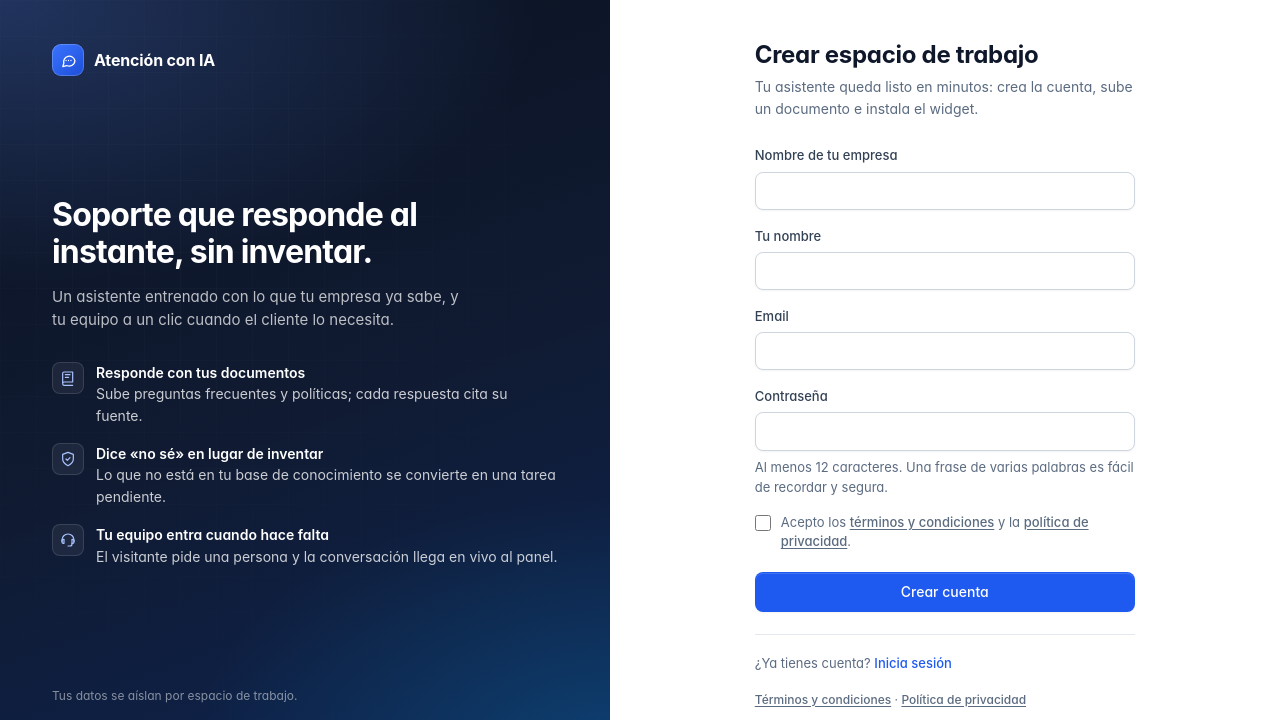
Test: Terms of service › are accepted on signing up, with both legal pages a click away
In the field labelled "Nombre de tu empresa": x=945, y=191 [755,172,1135,210], type "Mi Tienda"
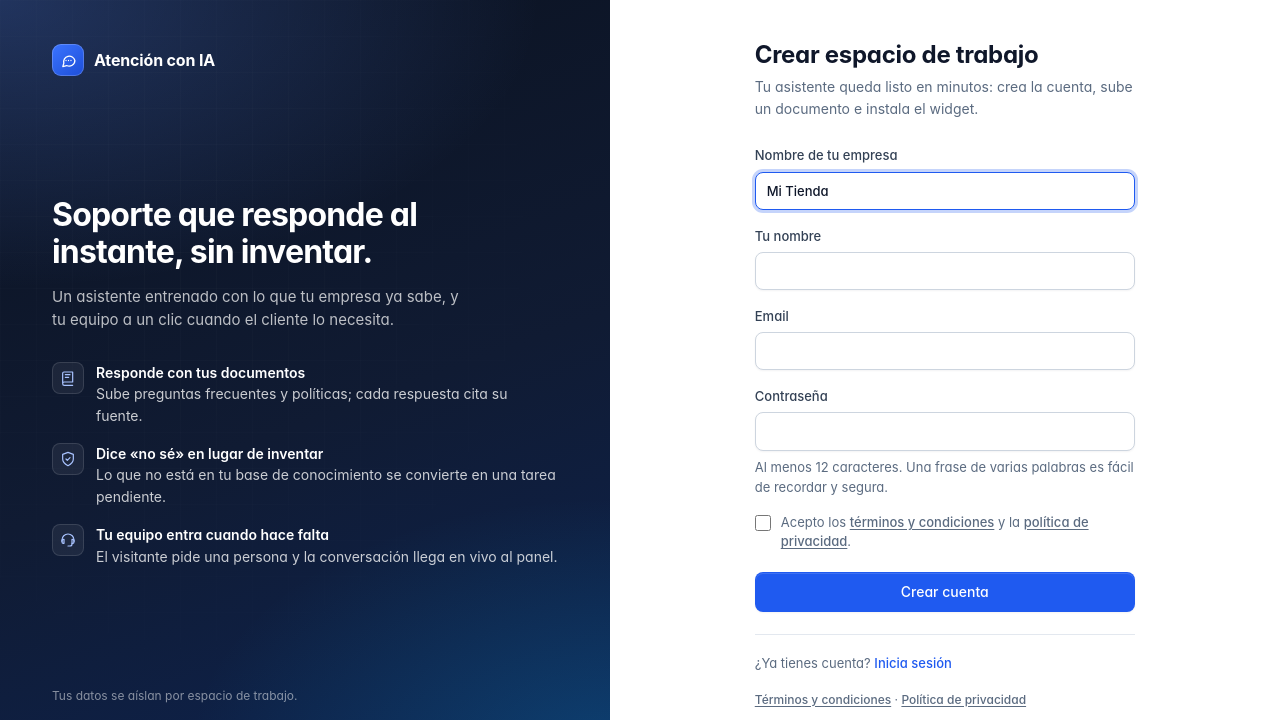
In the field labelled "Tu nombre": x=945, y=271 [755,252,1135,290], type "Ana"
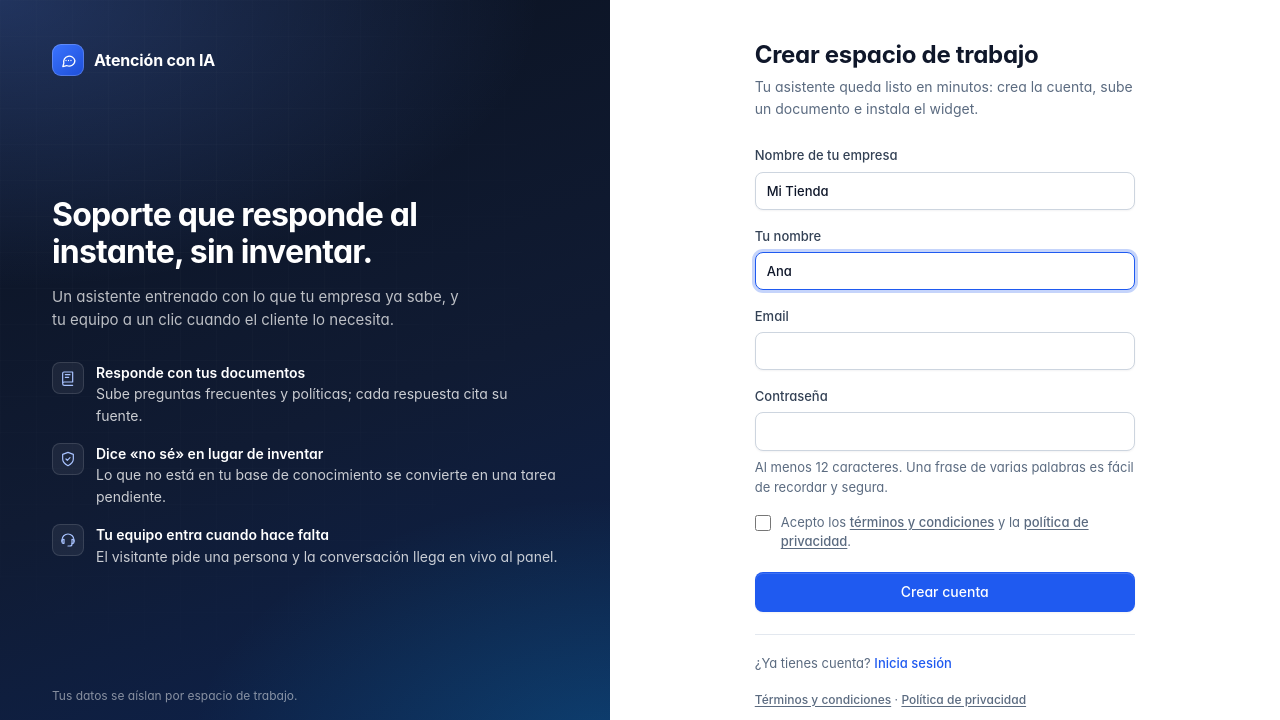
In the field labelled "Email": x=945, y=351 [755,332,1135,370], type "ana@mitienda.com"
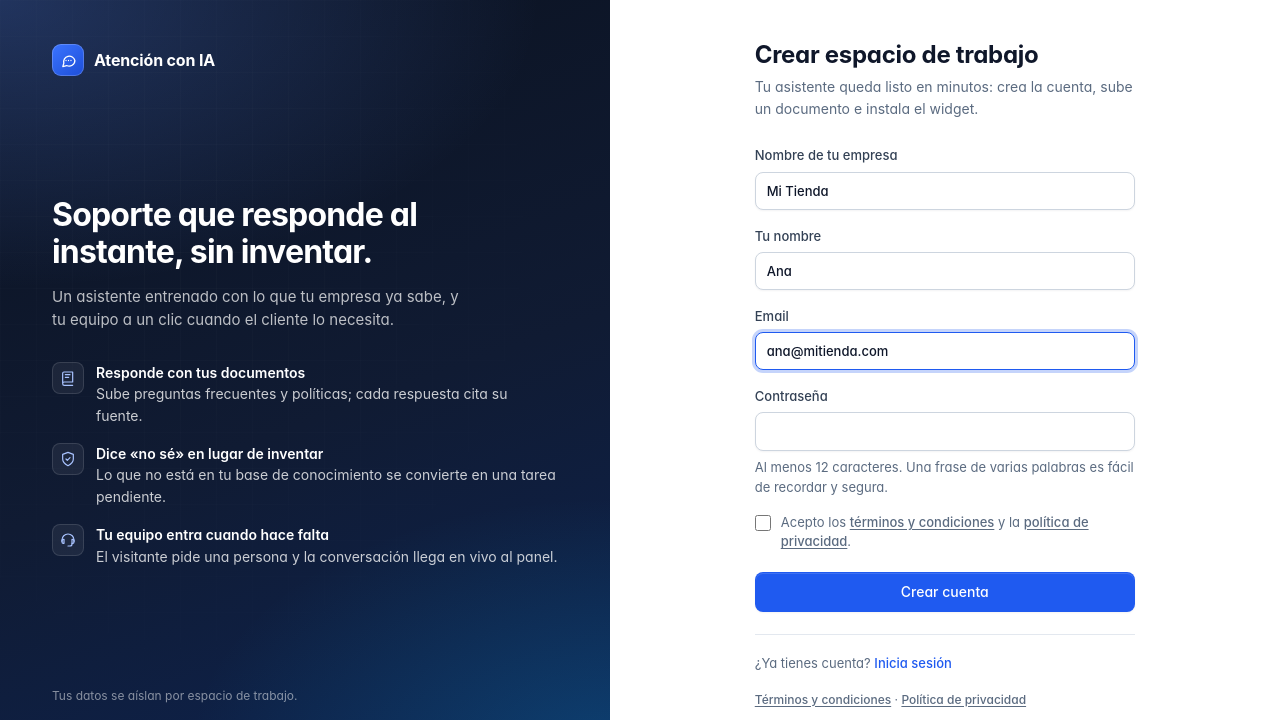
In the password field labelled "Contraseña": x=945, y=431 [755,412,1135,450], type "correct horse battery staple"
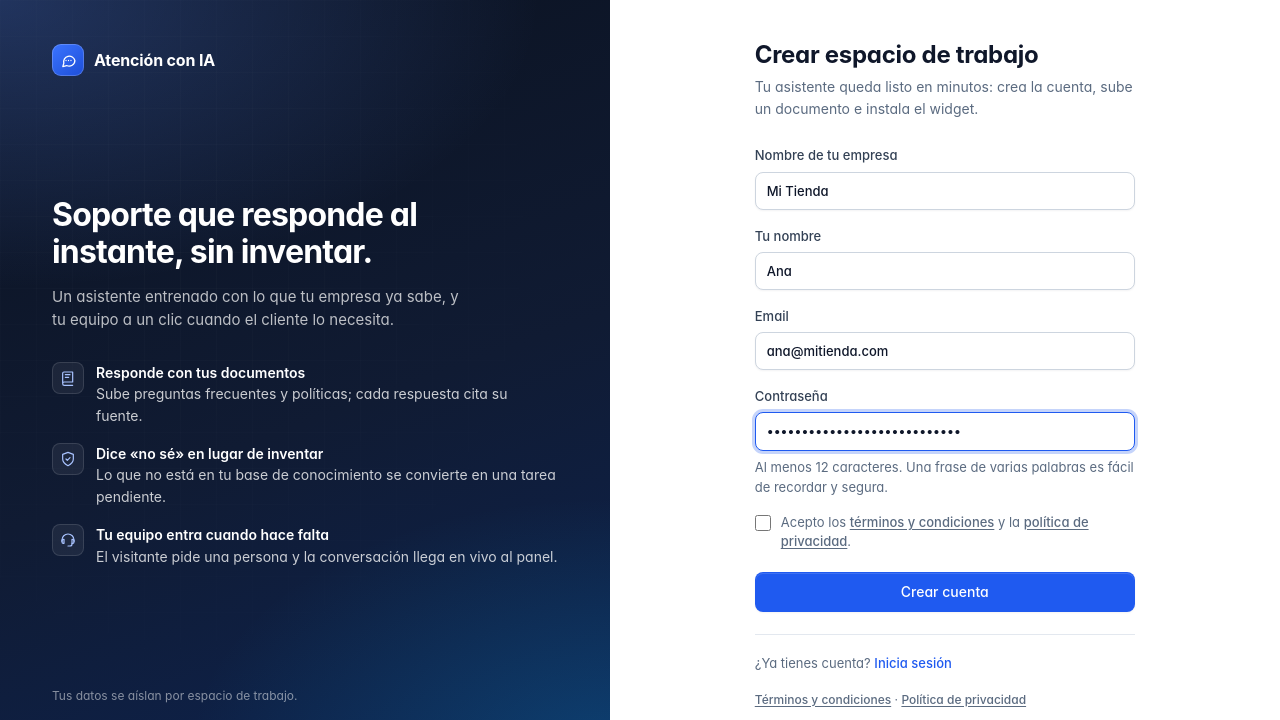
Click the checkbox labelled "Acepto los términos y condiciones": x=763, y=523 [755,515,771,531]
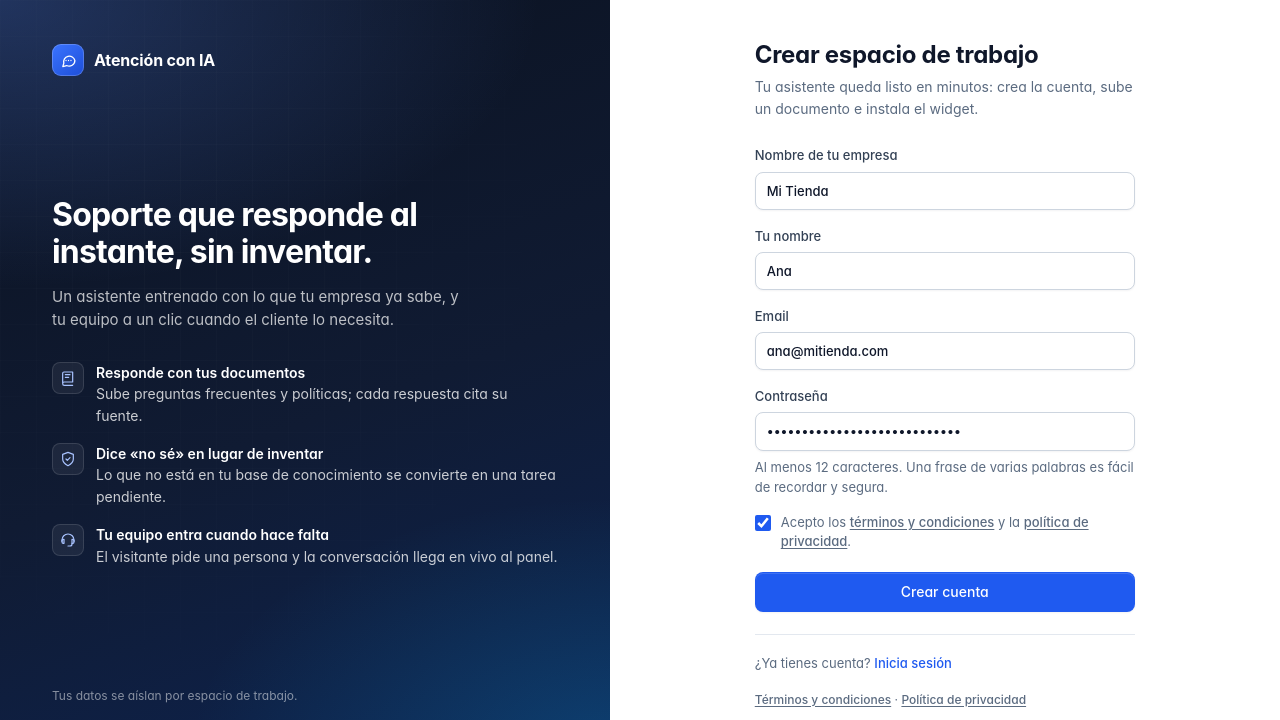
Click the button "Crear cuenta": x=945, y=592 [755,572,1135,612]
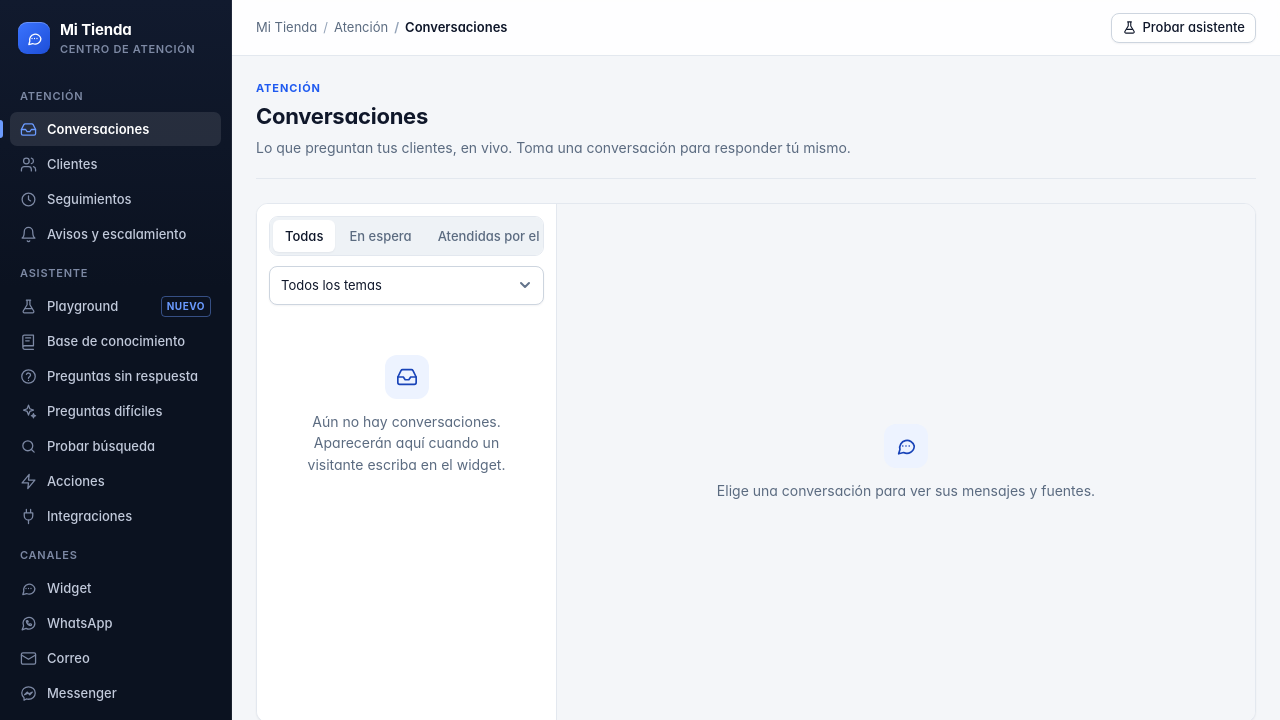
Expected: the heading "Conversaciones" is shown, [256,103,428,129]
